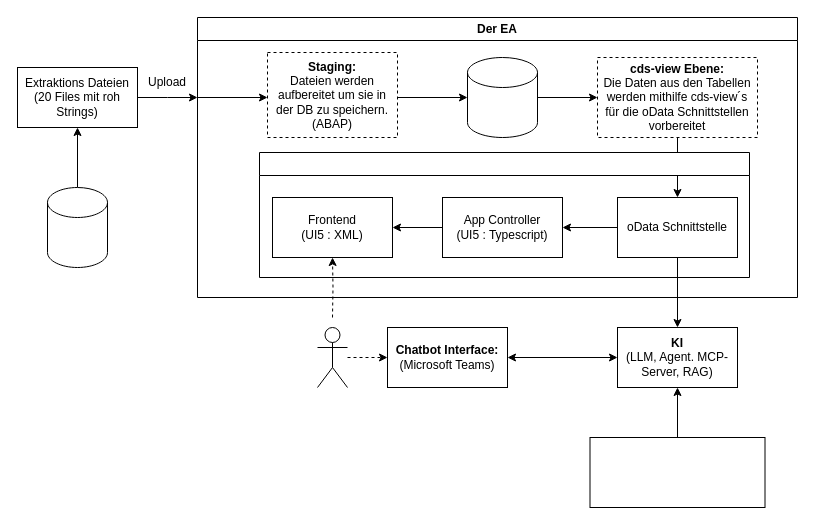
Image size: 815x525. Some labels were removed from this diagram. The centre of each missing label's shape, as x and y in pixels:
Externe Wissensquellen: (Text -> RAG, API´s -> MCP, Agents): the point at 677,472
Hana Datenbank: the point at 502,97
Kunden DB: the point at 77,227
Nutzer: the point at 332,357
Zu unterstützender Prozess: the point at 504,215
